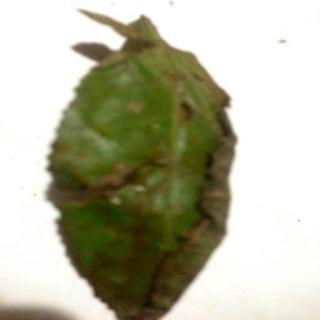Red Leaf Spot: (46, 11, 237, 320)
